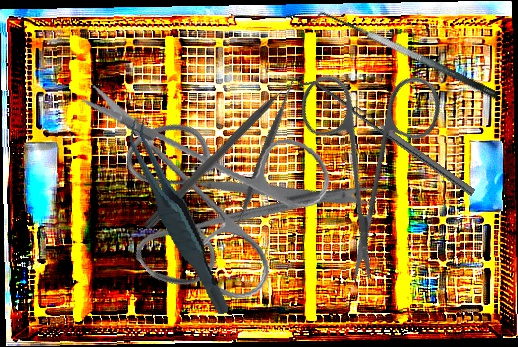Iris Scissors: (77, 41, 384, 347), (79, 49, 348, 319), (236, 24, 501, 288)
Pusher: (142, 69, 306, 233)
Spatula Surgical: (180, 73, 347, 243), (298, 72, 476, 203), (309, 1, 501, 115)
Tissue Forceps: (123, 108, 232, 326)
